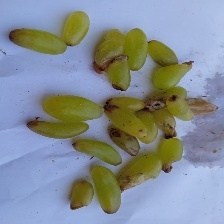grapes: (6, 27, 188, 183)
